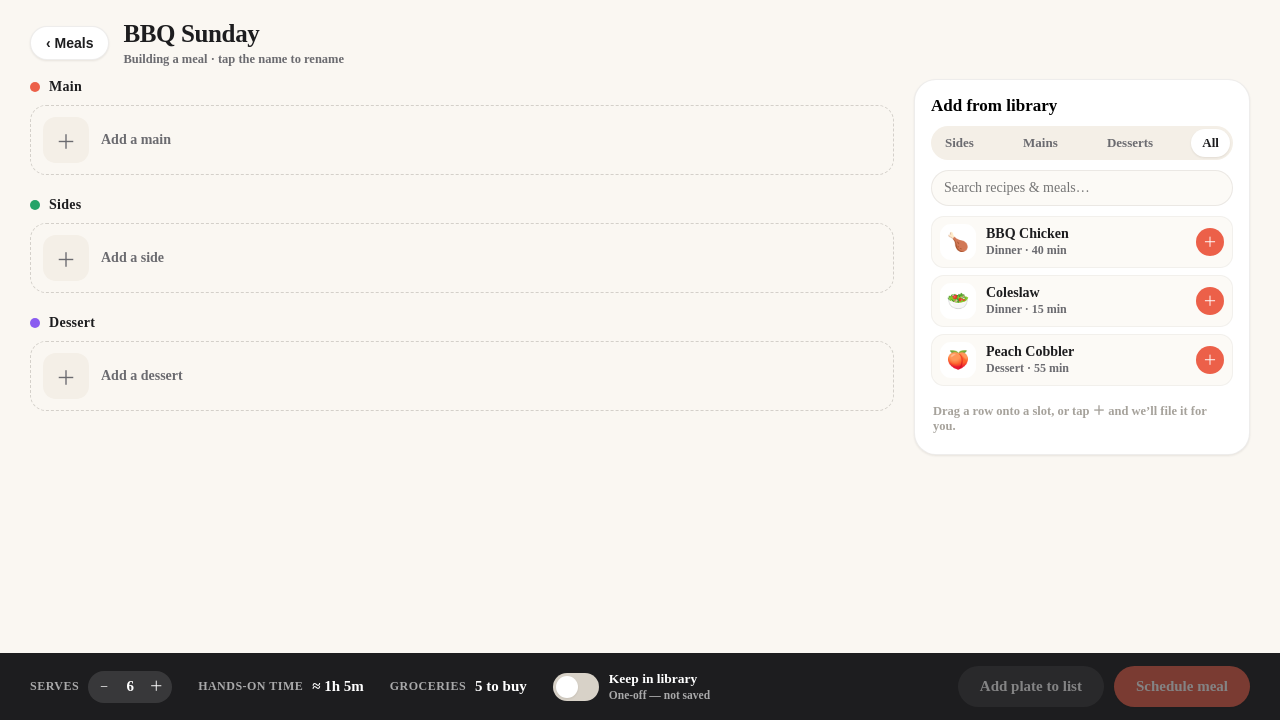
Test: MealBuilder — add from library › files a ＋ tap under the segment you are browsing, not always Sides
Expected: the text "Peach Cobbler" is shown, left=986, top=344, right=1074, bottom=359
Click the button "Mains": click(1040, 143) left=1012, top=129, right=1069, bottom=157
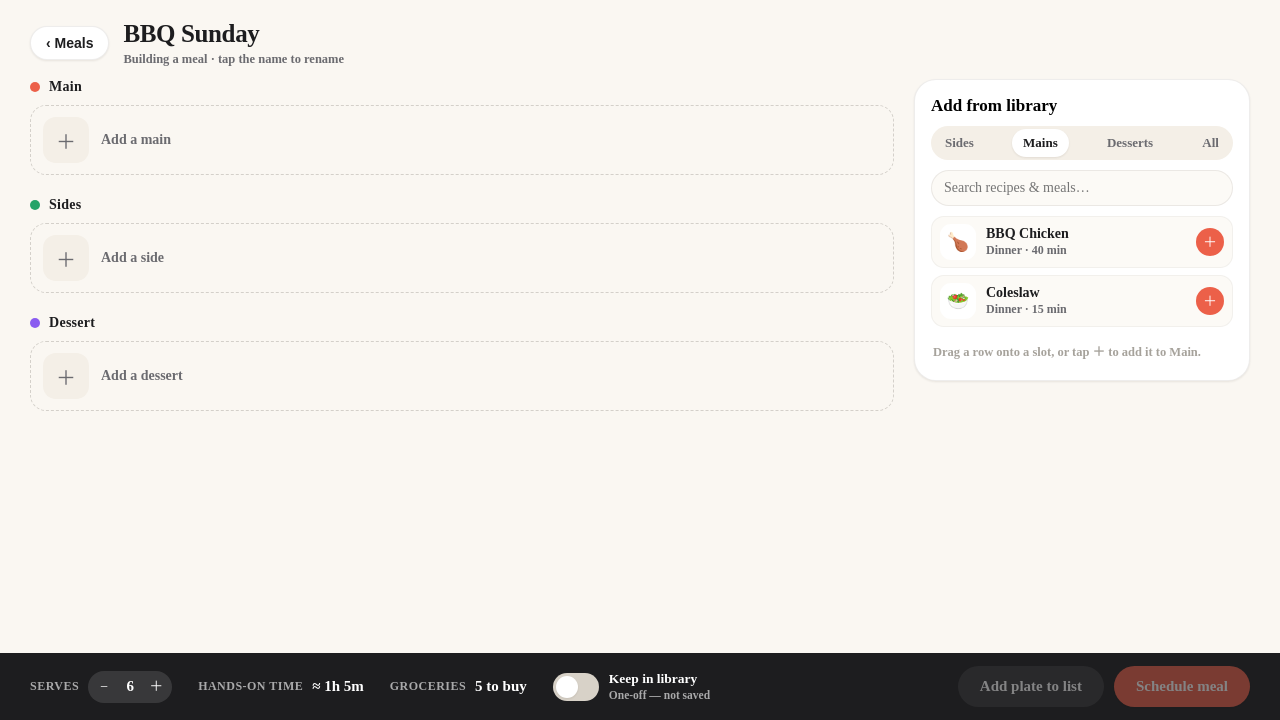
Click the button named "Add BBQ Chicken": click(1210, 242) left=1196, top=228, right=1224, bottom=256
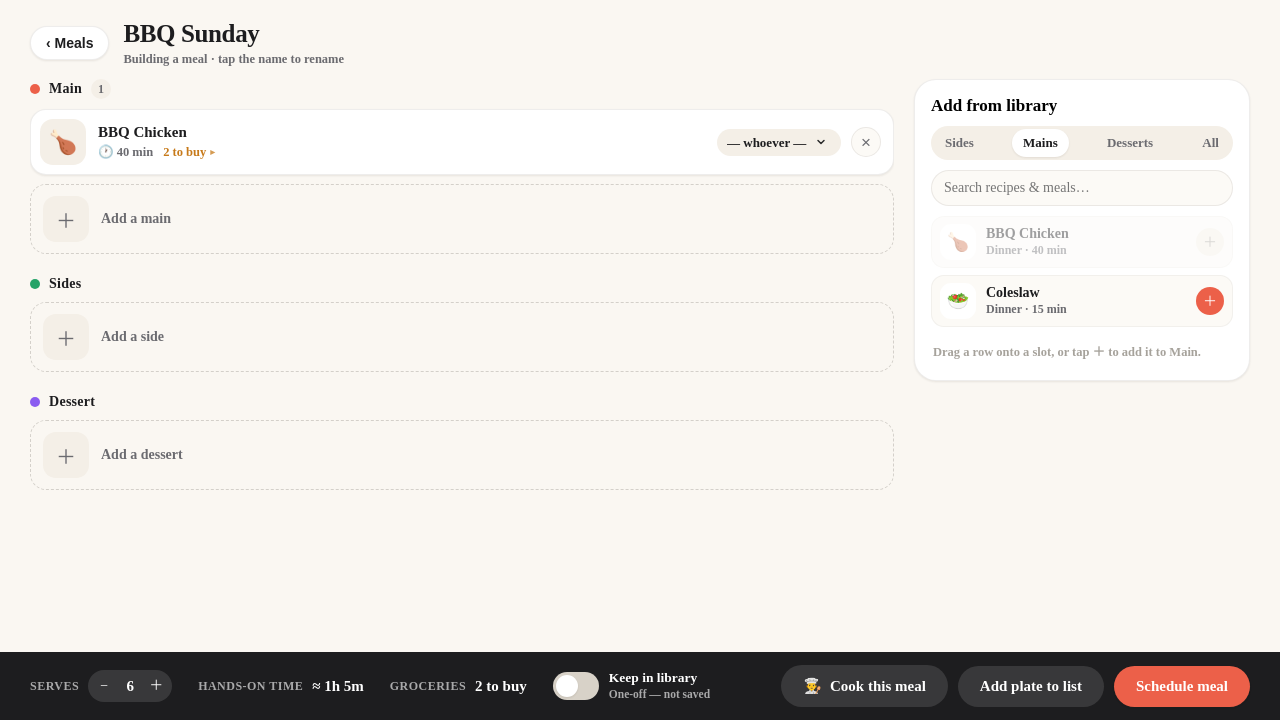
Result: the 1st text "BBQ Chicken" is shown at left=98, top=124, right=187, bottom=140
